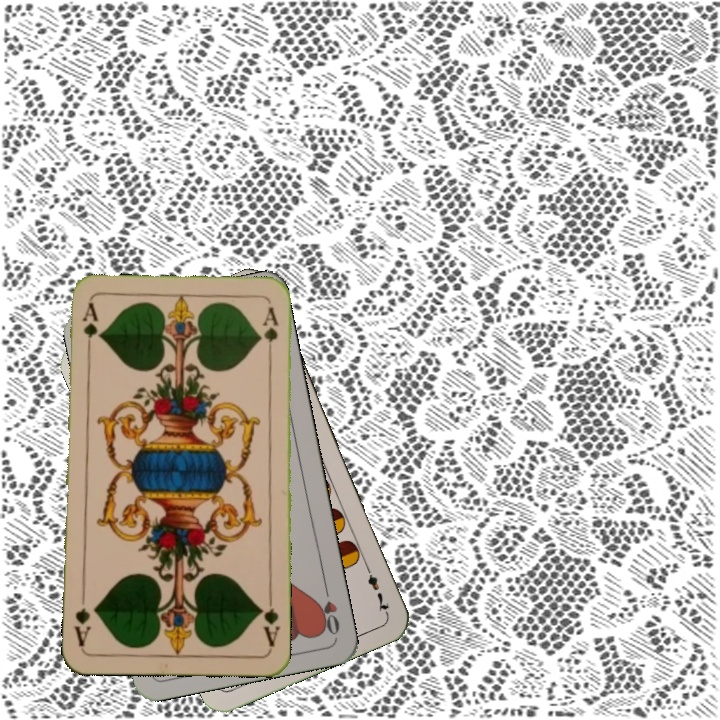E7: (360, 560, 392, 616)
GA: (255, 591, 282, 649), (78, 299, 100, 358)
HO: (314, 580, 342, 638)
